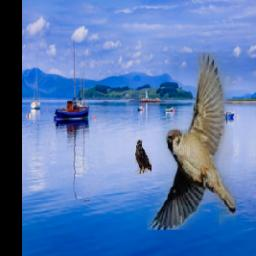Crow: (136, 141, 152, 175)
Sparrow: (147, 54, 237, 231)
